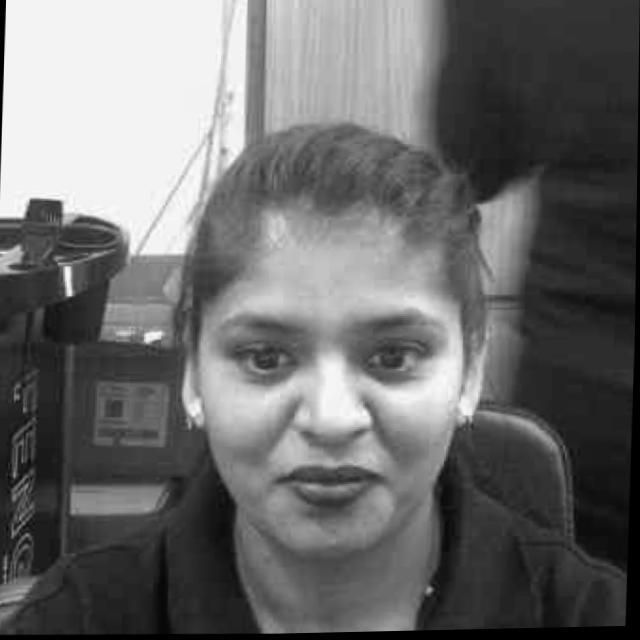Puffy Eyes - v3 Dark Circle: (358, 362, 414, 387), (249, 366, 297, 386)
